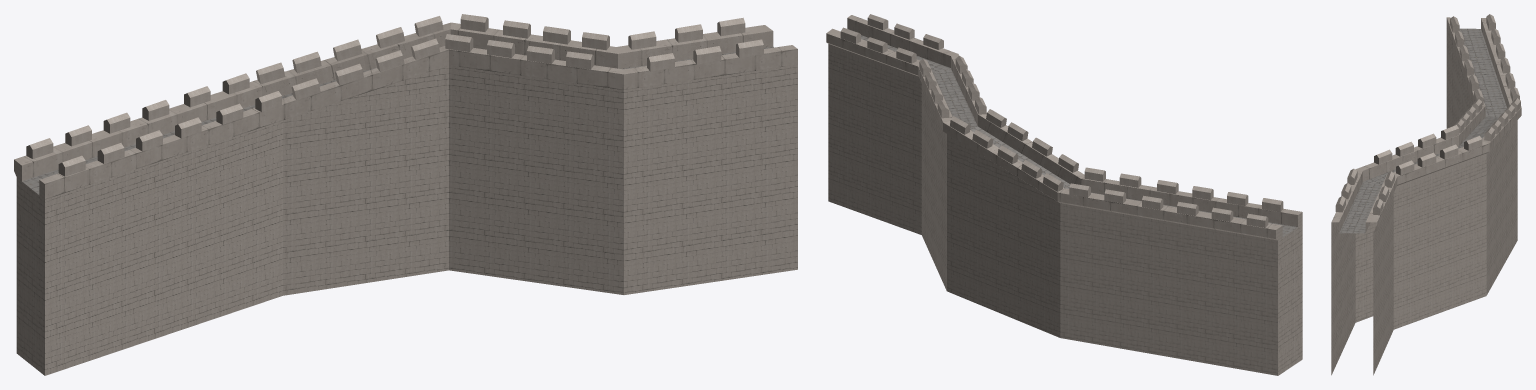
File: CastleWall_F.fbx
3 views of the same model, side by side, from view 1: azimuth 30°, elevation 25°; view 2: azimuth 150°, elevation 25°; view 3: azimuth 270°, elevation 25° (orthographic). The views are drawn at different scales.
Visible parts, largest first — view 1: CastleWall_F; view 2: CastleWall_F; view 3: CastleWall_F.
Boxes of the visible parts, x1,y1,x2,y2 form: CastleWall_F: [14, 14, 797, 375]; CastleWall_F: [826, 14, 1302, 375]; CastleWall_F: [1331, 14, 1521, 375].
Size of the model in its own units: 15034 by 5082 by 5314.
2 materials, 2 textured.
